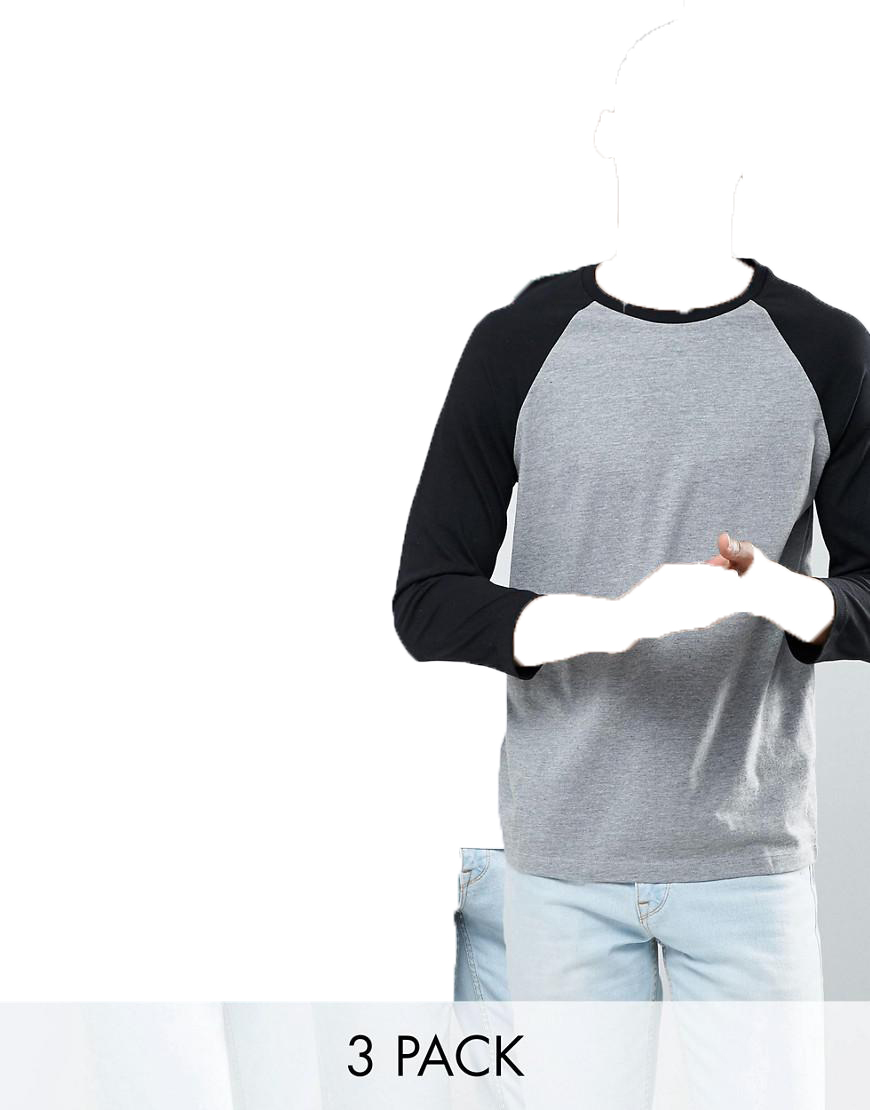teeshirt: (386, 254, 870, 883)
